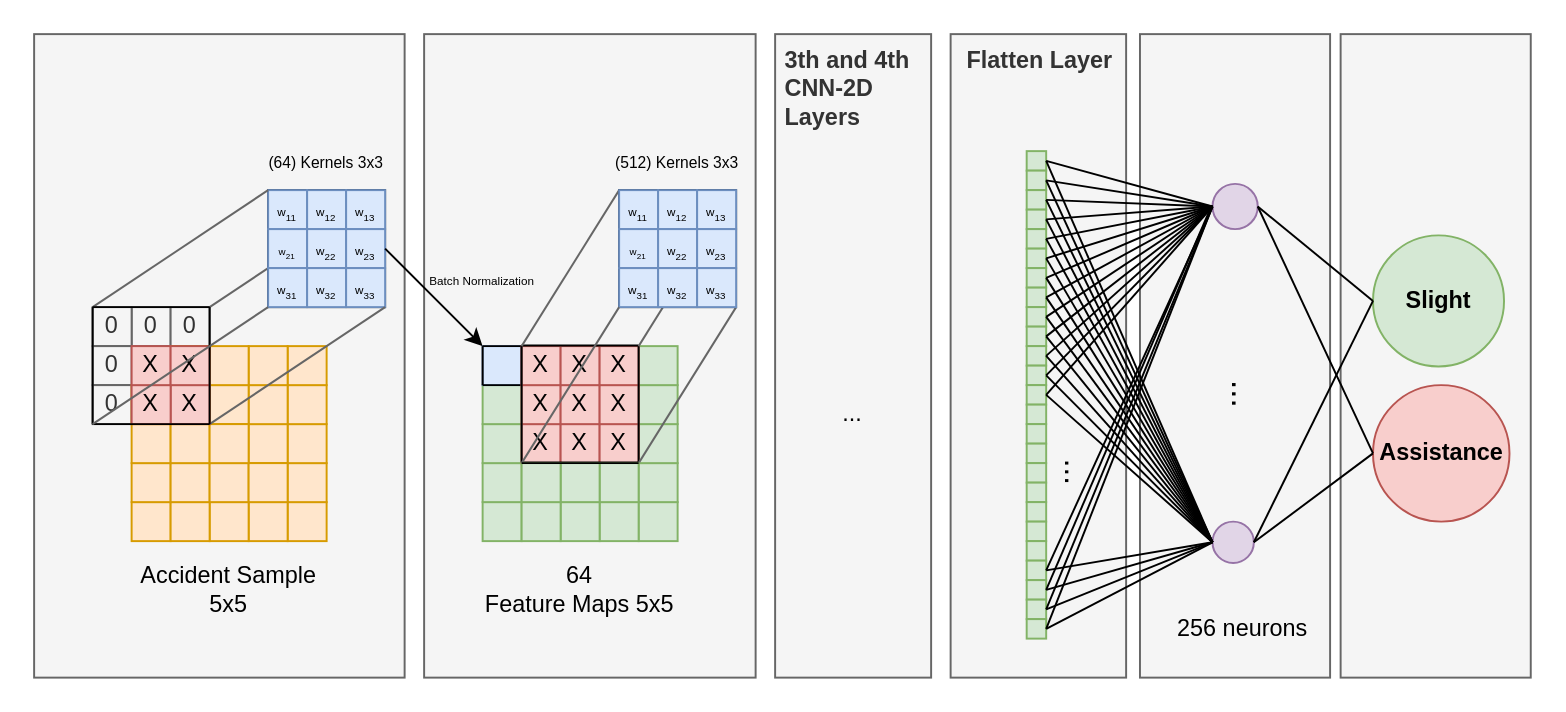
Some shapes in this 1566 by 712 pixel diagram are drawn without their labels. Here are the shapes that lost their labels. From the top down, the box of each, then its label:
(32, 32, 405, 678): 1st CNN-2D Layer
(422, 32, 756, 678): 2nd CNN-2D Layer
(1138, 32, 1330, 678): Dense Layer
(1339, 32, 1531, 678): Softmax Layer
